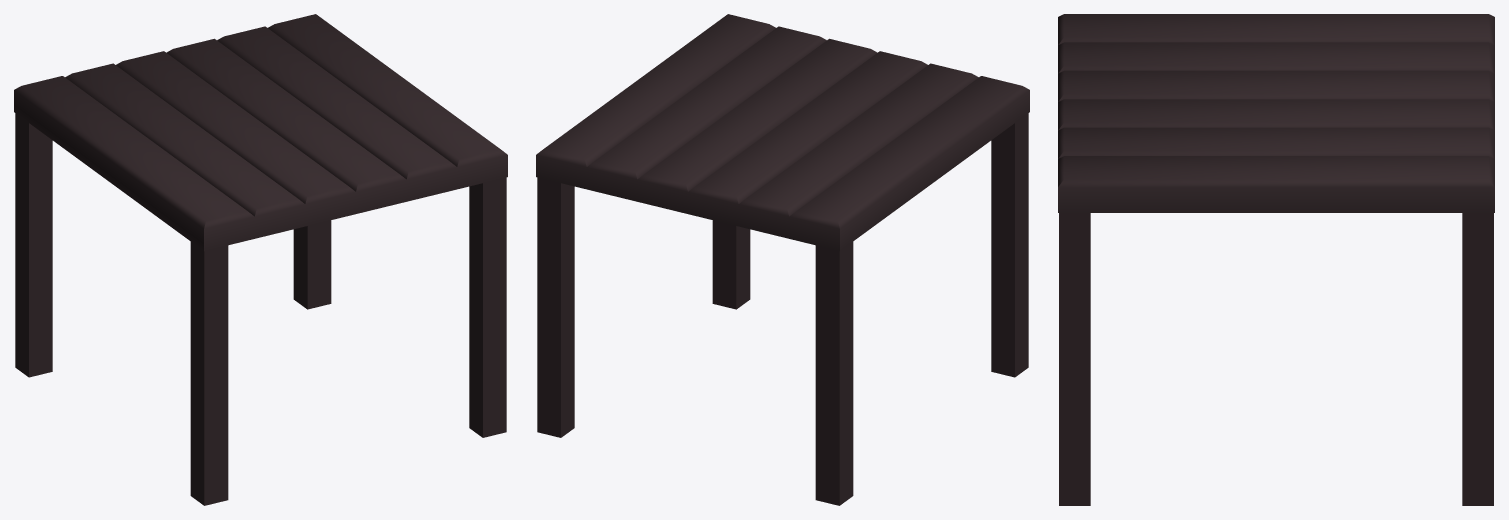
File: outside_table_small.fbx
The picture shows the model from 3 angles, left to right: view 1: azimuth 30°, elevation 25°; view 2: azimuth 150°, elevation 25°; view 3: azimuth 270°, elevation 25°; orthographic projection. The views are drawn at different scales.
Visible parts, largest first — view 1: outside_table_small; view 2: outside_table_small; view 3: outside_table_small.
Boxes of the visible parts, x1,y1,x2,y2 form: outside_table_small: (14, 14, 507, 505); outside_table_small: (536, 14, 1029, 505); outside_table_small: (1058, 14, 1494, 505).
Bounding box in the file's own units: 117 × 108 × 95.89.
